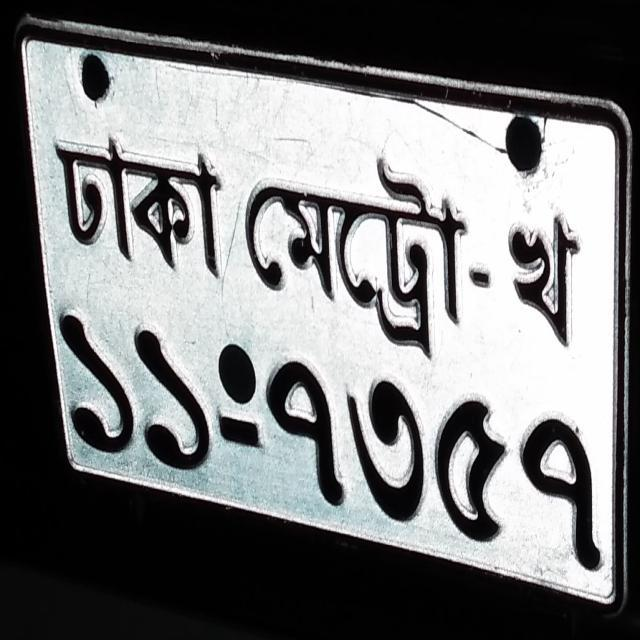cng: (503, 113, 544, 175)
numberplate: (14, 13, 633, 614)
